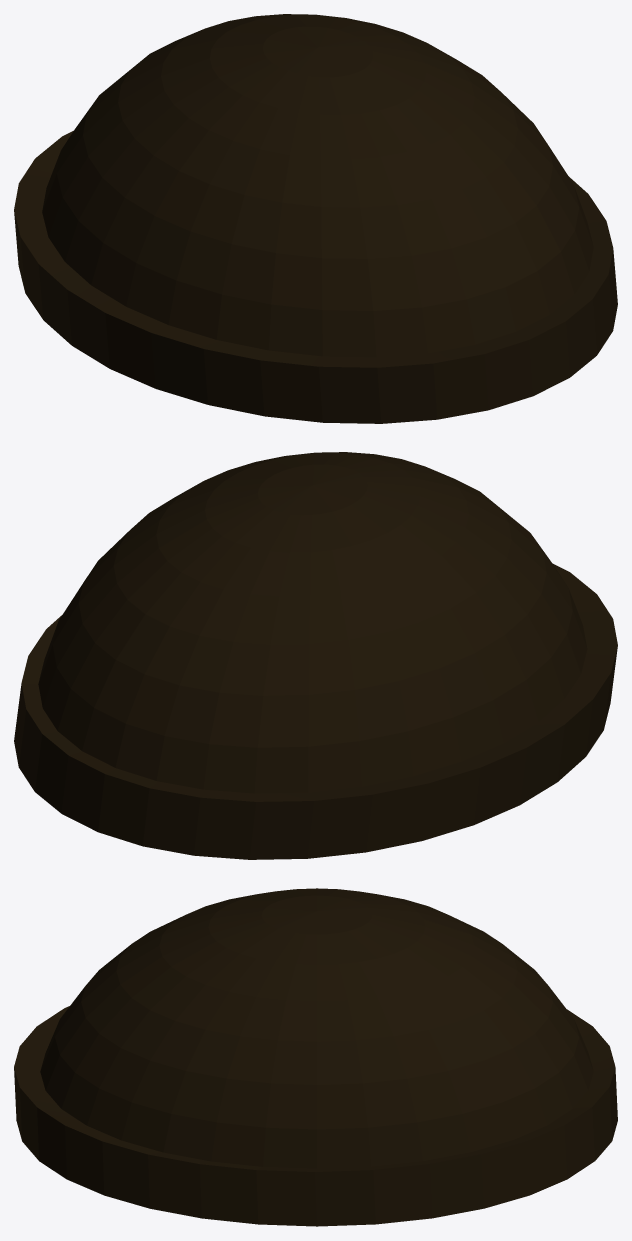
The model's file is berretto 1.fbx.
The picture shows the model from 3 angles, top to bottom: view 1: azimuth 30°, elevation 25°; view 2: azimuth 150°, elevation 25°; view 3: azimuth 270°, elevation 25°; orthographic projection. The views are drawn at different scales.
Visible parts, largest first — view 1: Sphere; view 2: Sphere; view 3: Sphere.
Part boxes in pixels (x1,y1,x2,y2): Sphere: (14,14,617,423); Sphere: (14,452,617,859); Sphere: (14,888,617,1226).
Size of the model in its own units: 179 by 81.73 by 213.
